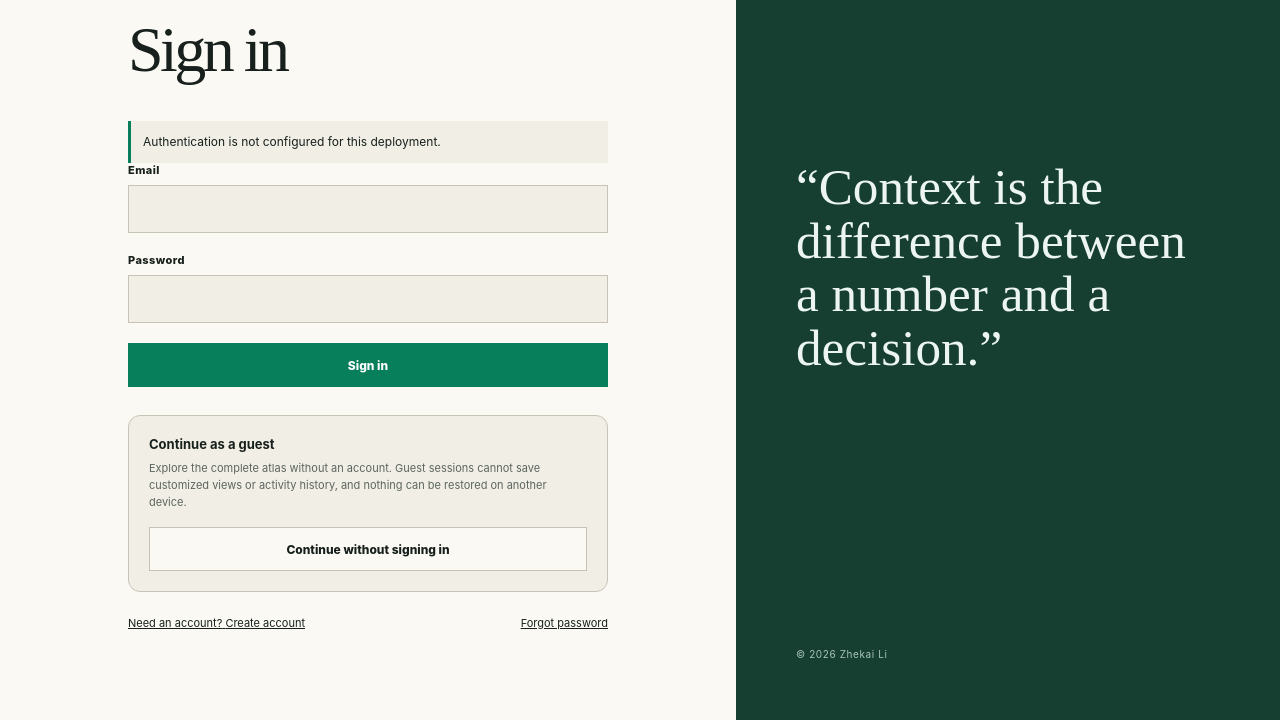
Test: public and protected routes › allows a guest to skip login and explains the persistence limits
(page scrolled)
Expected: the text "cannot save customized views or activity history" is shown, [149,461,547,509]
Click the button "Continue without signing in" at (368, 549), box [149,527,587,571]
(page scrolled)
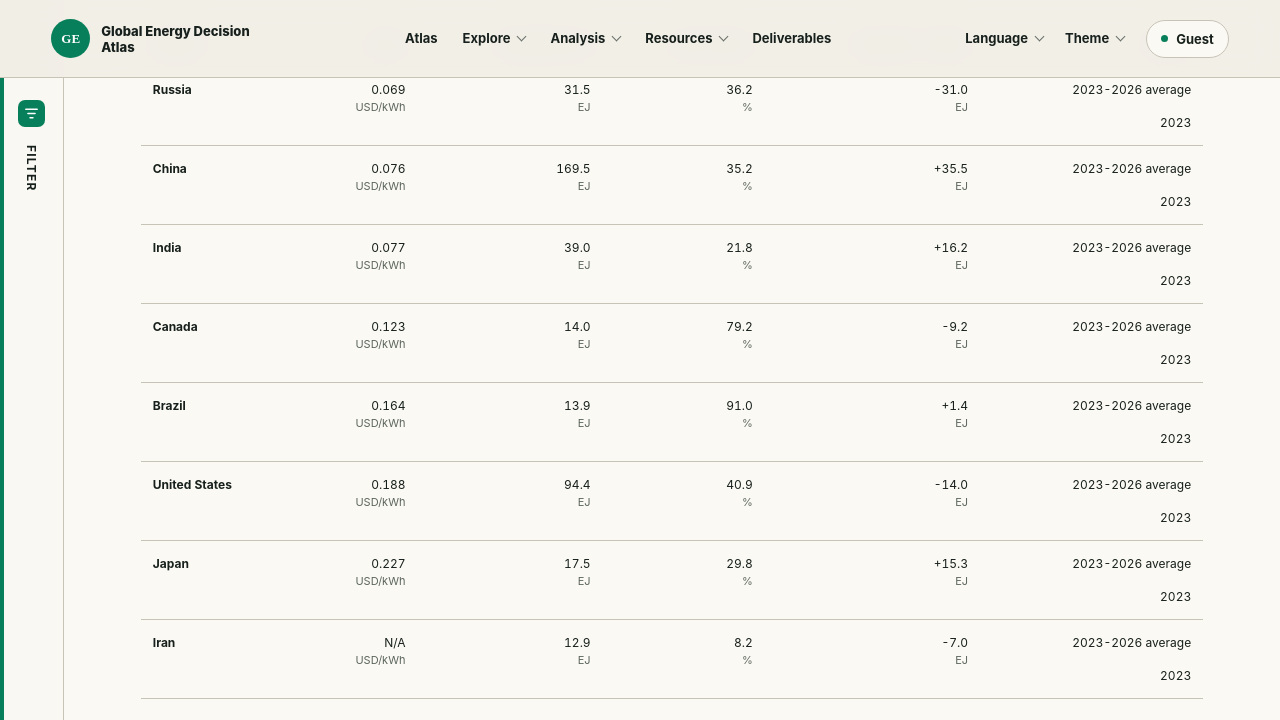
Expected: the button "Guest" is shown, [1146,20,1229,58]
Now the table is shown
